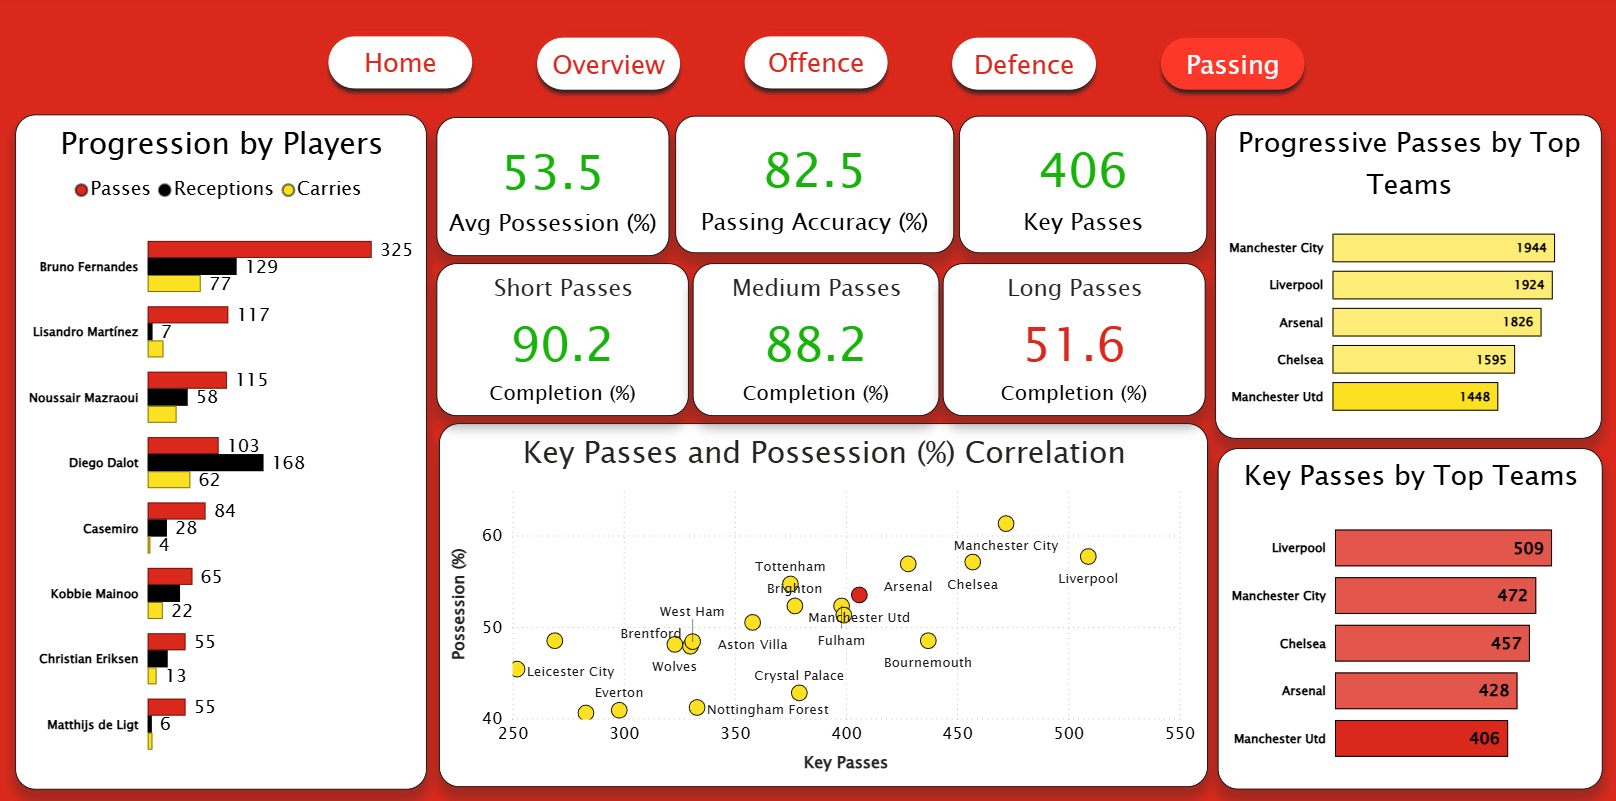

This screenshot's page, from the dashboard's own definition file:
{"tool":"powerbi","page":{"name":"Passing","canvas":[1600,800],"ordinal":4},"visuals":[{"type":"actionButton","box":[316.4,30,160.9,70],"z":0},{"type":"actionButton","box":[728.6,30.2,160,70],"z":1000},{"type":"actionButton","box":[934.2,30.4,160.9,70],"z":2000},{"type":"actionButton","box":[522.9,30.8,160,70],"z":3000},{"type":"actionButton","box":[1140.8,30.6,160.9,70],"z":4000},{"type":"card","fields":{"Values":["Sum(pl passing 24-25.Total_Pass_Completion_Percentage)"]},"box":[669.1,117.5,275.8,136.1],"z":5000},{"type":"card","fields":{"Values":["Sum(pl squad stats 24-25.Possession)"]},"box":[432.4,118.4,230.4,137.3],"z":6000},{"type":"clusteredBarChart","title":"Progression by Players","fields":{"Category":["pl utd overall stats 24-25.Player Name"],"Y":["Sum(pl utd overall stats 24-25.Progressive Passes)","Sum(pl utd overall stats 24-25.Progressive Receptions)","Sum(pl utd overall stats 24-25.Progressive Carries)"]},"box":[16.1,116.3,406.9,667.9],"z":7000},{"type":"scatterChart","title":"Key Passes and Possession (%) Correlation","fields":{"X":["Sum(pl passing 24-25.Key Passes)"],"Category":["pl passing 24-25.Squad"],"Y":["Sum(pl squad stats 24-25.Possession)"]},"box":[435.4,421.8,760.7,359.9],"z":8000},{"type":"card","fields":{"Values":["Sum(pl passing 24-25.Key Passes)"]},"box":[949.6,117.3,245.9,136.2],"z":9000},{"type":"card","title":"Short Passes","fields":{"Values":["Sum(pl passing 24-25.Short_Pass_Completion_Percentage)"]},"box":[433.2,262.9,249.7,151.3],"z":10000},{"type":"card","title":"Medium Passes","fields":{"Values":["Sum(pl passing 24-25.Medium_Pass_Completion_Percentage)"]},"box":[686.5,263.5,243.7,150.9],"z":11000},{"type":"card","title":"Long Passes","fields":{"Values":["Sum(pl passing 24-25.Long_Pass_Completion_Percentage)"]},"box":[933.8,263.5,259.7,150.9],"z":12000},{"type":"barChart","title":"Progressive Passes by Top Teams","fields":{"Y":["Sum(pl passing 24-25.Progressive_Passes)"],"Category":["pl passing 24-25.Squad"]},"box":[1203.7,116.8,382.4,320.8],"z":13000},{"type":"barChart","title":"Key Passes by Top Teams","fields":{"Category":["pl passing 24-25.Squad"],"Y":["Sum(pl passing 24-25.Key Passes)"]},"box":[1206.3,446.6,381.1,337.5],"z":14000}]}

Visuals, with their boxes in screenshot pixels (x1, y1, x2, y2), scaled from the page's 1600x800 canvas onto the 1616x801 screenshot:
actionButton: 320/30/482/100
actionButton: 736/30/897/100
actionButton: 944/30/1106/101
actionButton: 528/31/690/101
actionButton: 1152/31/1315/101
card - Sum(pl passing 24-25.Total_Pass_Completion_Percentage): 676/118/954/254
card - Sum(pl squad stats 24-25.Possession): 437/119/669/256
"Progression by Players" clusteredBarChart: 16/116/427/785
"Key Passes and Possession (%) Correlation" scatterChart: 440/422/1208/783
card - Sum(pl passing 24-25.Key Passes): 959/117/1207/254
"Short Passes" card: 438/263/690/415
"Medium Passes" card: 693/264/940/415
"Long Passes" card: 943/264/1205/415
"Progressive Passes by Top Teams" barChart: 1216/117/1602/438
"Key Passes by Top Teams" barChart: 1218/447/1603/785
